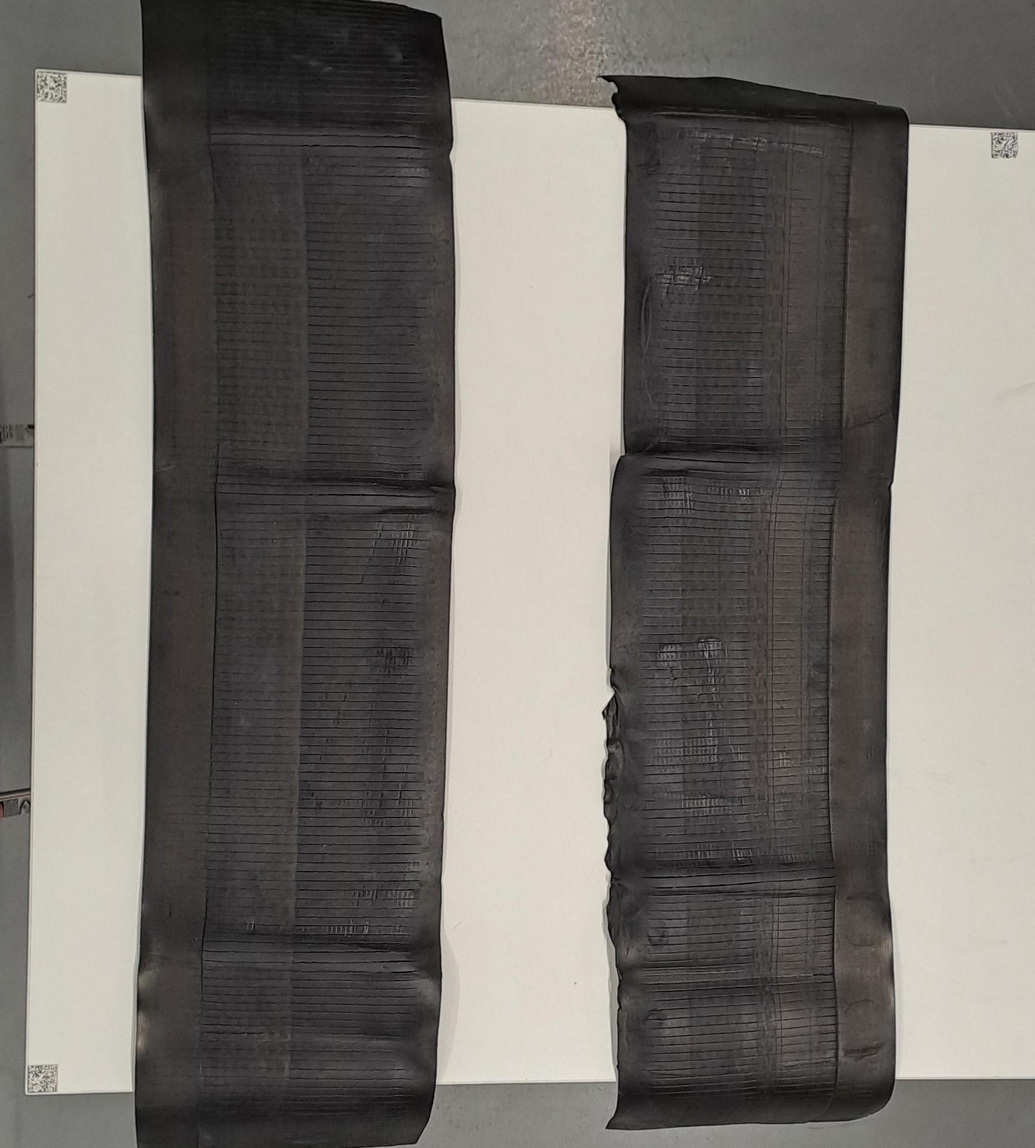qr_code: (37, 71, 66, 103), (27, 1064, 58, 1093), (991, 131, 1018, 158)
